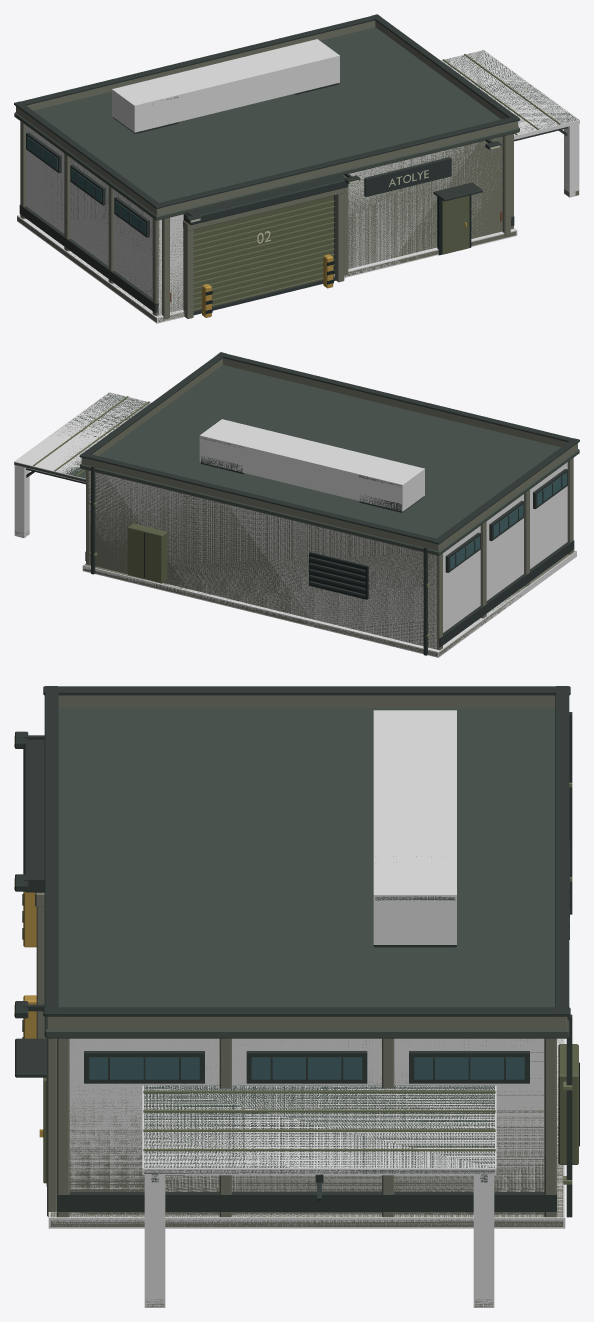
File: maintenance_workshop_01.glb
3 renders of one model, top to bottom at view 1: azimuth 30°, elevation 25°; view 2: azimuth 150°, elevation 25°; view 3: azimuth 270°, elevation 25°, orthographic. The views are drawn at different scales.
Visible parts, largest first — view 1: MW01_Roof_Geometry, MW01_Concrete_Geometry, COL_Main, MW01_GraphiteSteel_Geometry, MW01_Olive_Geometry, COL_RoofEquipment, MW01_PanelHighlight_Geometry, COL_CanopyRoof, COL_Foundation, MW01_SmokedGlass_Geometry, COL_CanopyPost, MW01_Recess_Geometry (+1 smaller); view 2: MW01_Concrete_Geometry, MW01_Roof_Geometry, COL_Main, MW01_GraphiteSteel_Geometry, COL_RoofEquipment, COL_CanopyRoof, COL_Foundation, MW01_Olive_Geometry, MW01_Recess_Geometry, COL_CanopyPost.001, MW01_SmokedGlass_Geometry, MW01_PanelHighlight_Geometry; view 3: MW01_Roof_Geometry, MW01_GraphiteSteel_Geometry, MW01_Concrete_Geometry, COL_Main, COL_CanopyRoof, COL_RoofEquipment, MW01_SmokedGlass_Geometry, COL_Foundation, MW01_PanelHighlight_Geometry, COL_CanopyPost, COL_CanopyPost.001, MW01_Olive_Geometry (+1 smaller).
Boxes of the visible parts, x1=… form: MW01_Roof_Geometry: x1=14, y1=27, x2=578, y2=220; MW01_Concrete_Geometry: x1=16, y1=20, x2=578, y2=322; COL_Main: x1=26, y1=126, x2=501, y2=314; MW01_GraphiteSteel_Geometry: x1=14, y1=14, x2=567, y2=315; MW01_Olive_Geometry: x1=193, y1=195, x2=469, y2=310; COL_RoofEquipment: x1=112, y1=39, x2=339, y2=132; MW01_PanelHighlight_Geometry: x1=193, y1=54, x2=560, y2=310; COL_CanopyRoof: x1=441, y1=50, x2=579, y2=139; COL_Foundation: x1=17, y1=214, x2=517, y2=323; MW01_SmokedGlass_Geometry: x1=27, y1=136, x2=145, y2=234; COL_CanopyPost: x1=564, y1=124, x2=579, y2=197; MW01_Recess_Geometry: x1=205, y1=195, x2=471, y2=314; MW01_Concrete_Geometry: x1=15, y1=358, x2=577, y2=656; MW01_Roof_Geometry: x1=14, y1=365, x2=579, y2=555; COL_Main: x1=88, y1=462, x2=567, y2=649; MW01_GraphiteSteel_Geometry: x1=26, y1=352, x2=579, y2=655; COL_RoofEquipment: x1=199, y1=419, x2=424, y2=511; COL_CanopyRoof: x1=14, y1=392, x2=151, y2=482; COL_Foundation: x1=82, y1=550, x2=576, y2=657; MW01_Olive_Geometry: x1=127, y1=523, x2=167, y2=583; MW01_Recess_Geometry: x1=144, y1=533, x2=368, y2=599; COL_CanopyPost.001: x1=14, y1=465, x2=29, y2=537; MW01_SmokedGlass_Geometry: x1=450, y1=473, x2=566, y2=569; MW01_PanelHighlight_Geometry: x1=33, y1=396, x2=430, y2=637; MW01_Roof_Geometry: x1=44, y1=708, x2=569, y2=1173; MW01_GraphiteSteel_Geometry: x1=15, y1=686, x2=572, y2=1217; MW01_Concrete_Geometry: x1=35, y1=695, x2=567, y2=1306; COL_Main: x1=69, y1=1038, x2=544, y2=1214; COL_CanopyRoof: x1=142, y1=1085, x2=496, y2=1175; COL_RoofEquipment: x1=373, y1=710, x2=456, y2=944; MW01_SmokedGlass_Geometry: x1=89, y1=1057, x2=524, y2=1079; COL_Foundation: x1=48, y1=1038, x2=565, y2=1228; MW01_PanelHighlight_Geometry: x1=143, y1=782, x2=572, y2=1184; COL_CanopyPost: x1=144, y1=1175, x2=165, y2=1307; COL_CanopyPost.001: x1=473, y1=1175, x2=494, y2=1307; MW01_Olive_Geometry: x1=43, y1=1044, x2=578, y2=1183.
Size of the model in its own units: 23 by 6.71 by 13.58.
